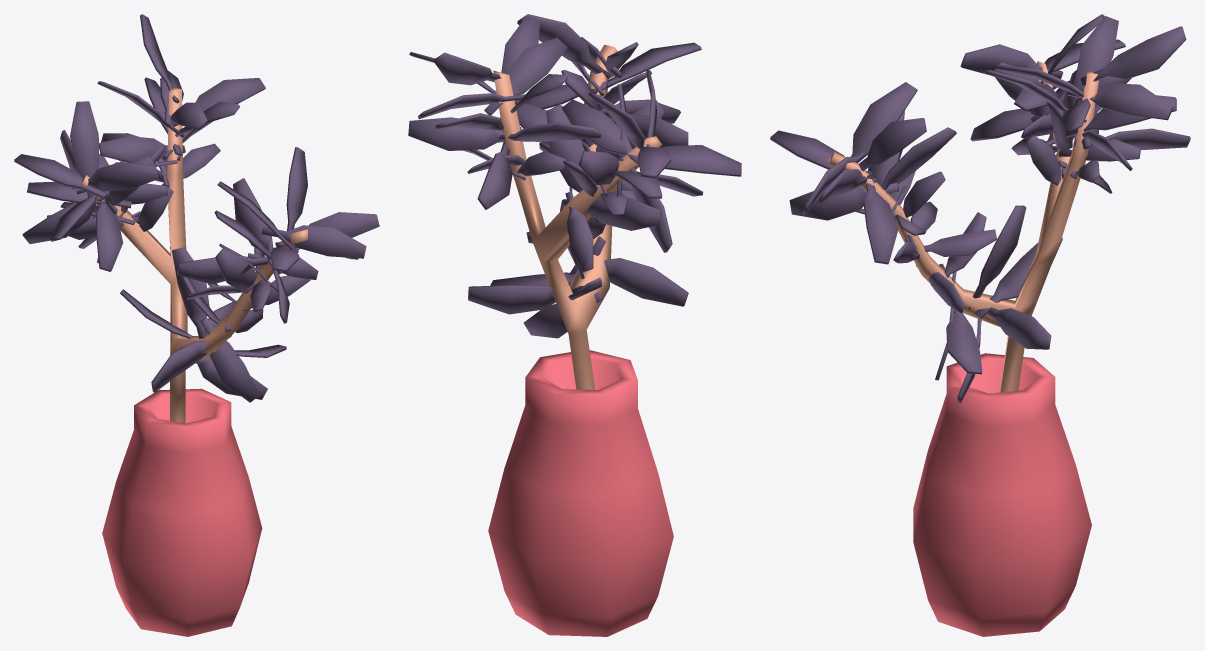
The model's file is plantLarge.fbx.
3 renders of one model, left to right at view 1: azimuth 30°, elevation 25°; view 2: azimuth 150°, elevation 25°; view 3: azimuth 270°, elevation 25°, orthographic. The views are drawn at different scales.
Parts seen in each view (by area): view 1: PlantLarge; view 2: PlantLarge; view 3: PlantLarge.
Part boxes in pixels (x1,y1,x2,y2): PlantLarge: (14, 14, 379, 636); PlantLarge: (408, 14, 741, 636); PlantLarge: (770, 14, 1190, 636).
Size of the model in its own units: 73.32 by 145 by 91.25.
Materials: 1 (1 with a texture image).
